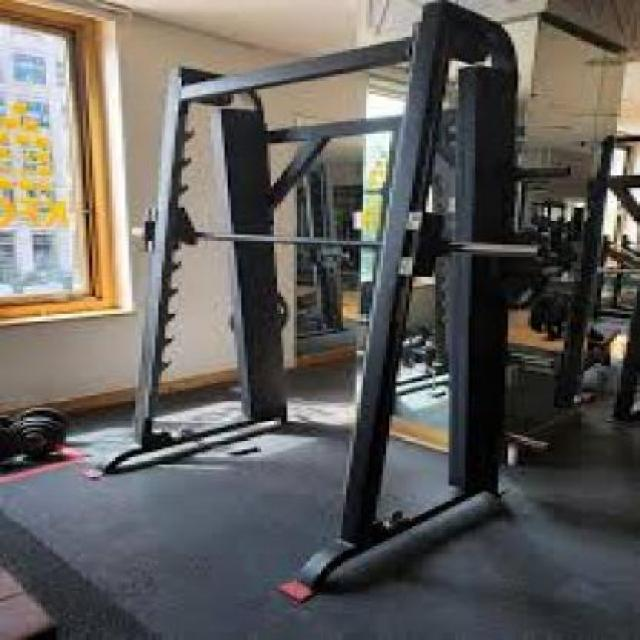smith machine: (140, 2, 554, 606)
